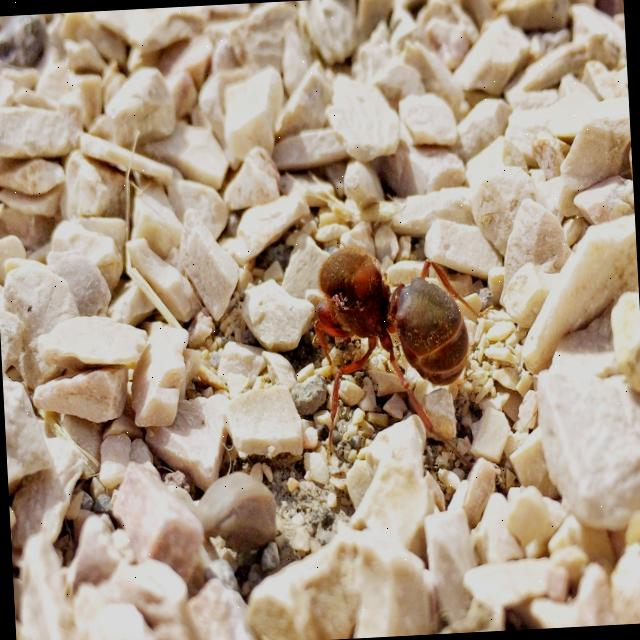Alive-Female-Dealate: (306, 238, 502, 477)
